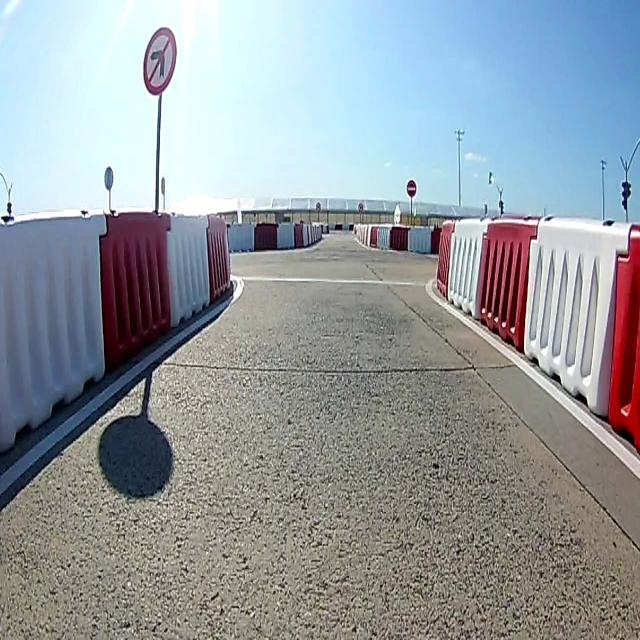girisyok: (405, 178, 418, 200)
soladonulmez: (142, 27, 178, 95)
